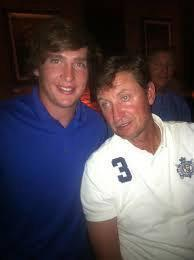Drunk: (40, 46, 88, 108), (99, 78, 147, 135)
